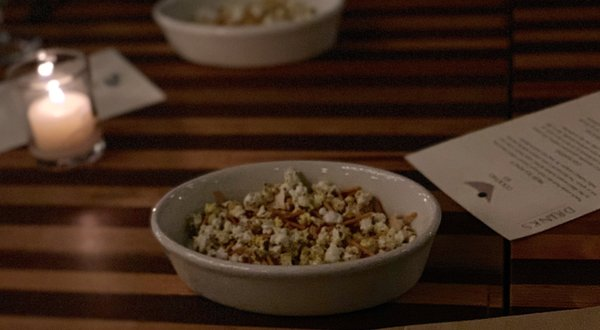sushi: (150, 160, 444, 317), (149, 0, 349, 70)
